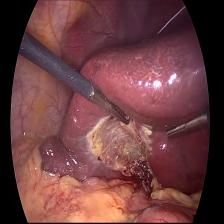Grasper: (85, 82, 135, 129), (163, 108, 208, 150)
